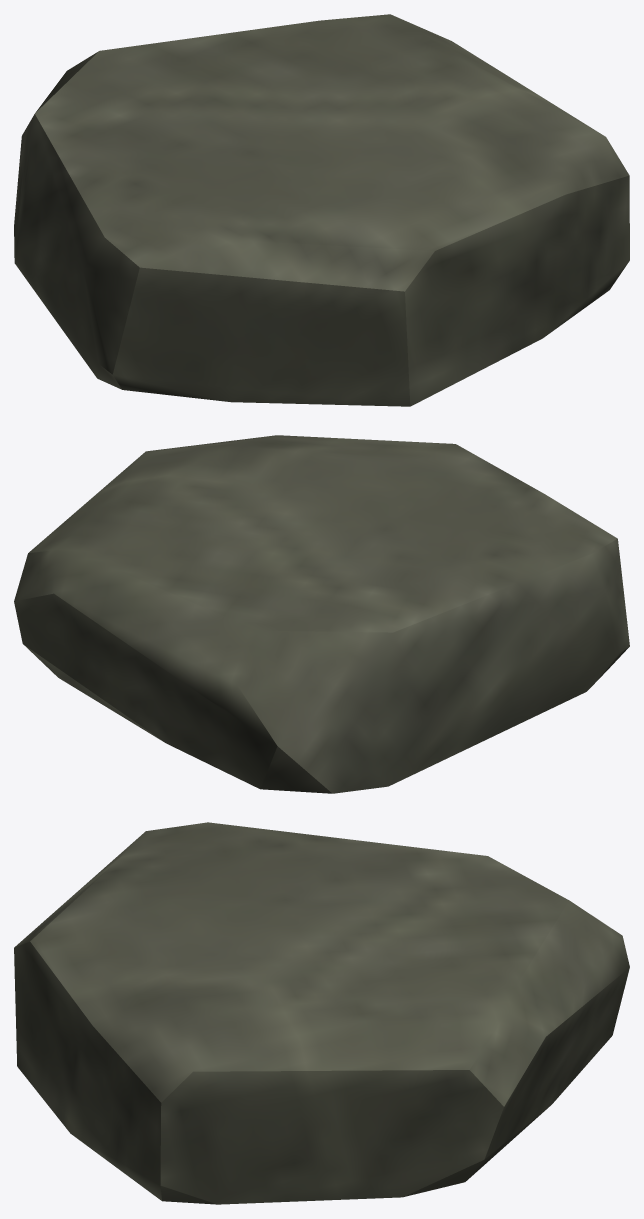
The model's file is Rock_11.fbx.
3 renders of one model, top to bottom at view 1: azimuth 30°, elevation 25°; view 2: azimuth 150°, elevation 25°; view 3: azimuth 270°, elevation 25°, orthographic. The views are drawn at different scales.
Visible parts, largest first — view 1: Rock_11; view 2: Rock_11; view 3: Rock_11.
Part boxes in pixels (<box>): Rock_11: <box>14,14,629,406</box>; Rock_11: <box>14,435,629,793</box>; Rock_11: <box>14,822,629,1204</box>.
Size of the model in its own units: 234 by 75.54 by 246.
1 material, 1 textured.
